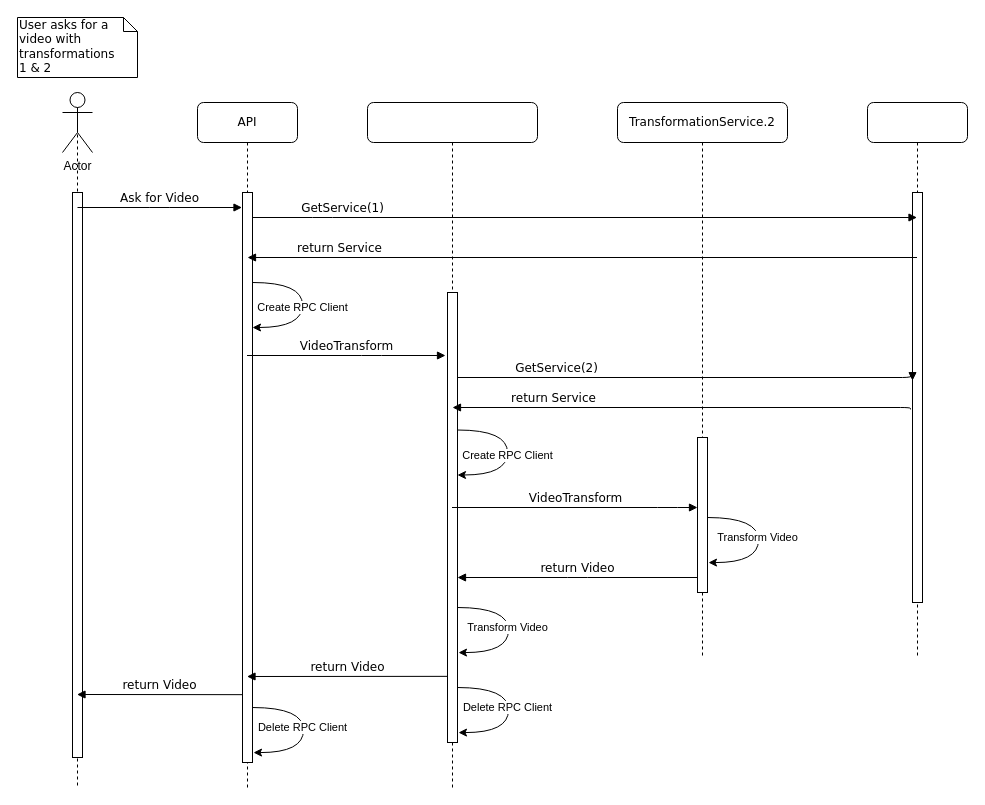
Some shapes in this 985 by 805 pixel diagram are drawn without their labels. Each missing label, with the box of its shape:
Consul: (866, 102, 968, 658)
TransformationService.1: (366, 102, 538, 788)
